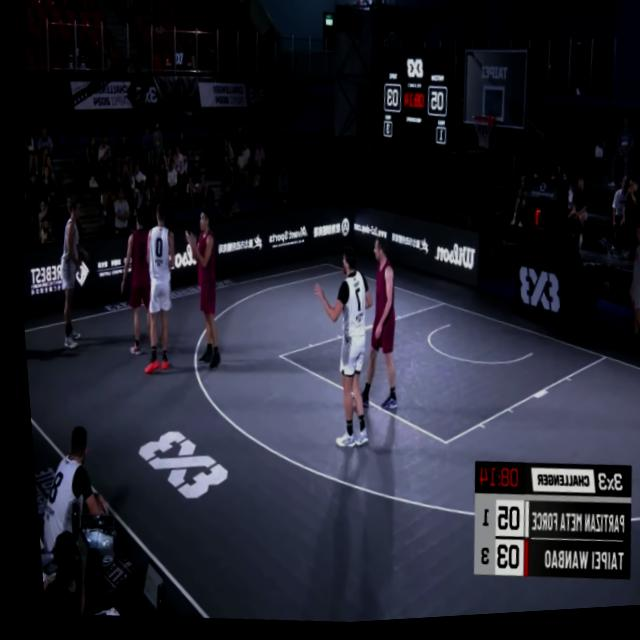hoop: (465, 114, 497, 158)
player: (295, 246, 380, 457), (334, 235, 406, 424), (127, 202, 182, 377), (170, 208, 226, 373), (108, 204, 159, 362), (46, 197, 96, 351)
